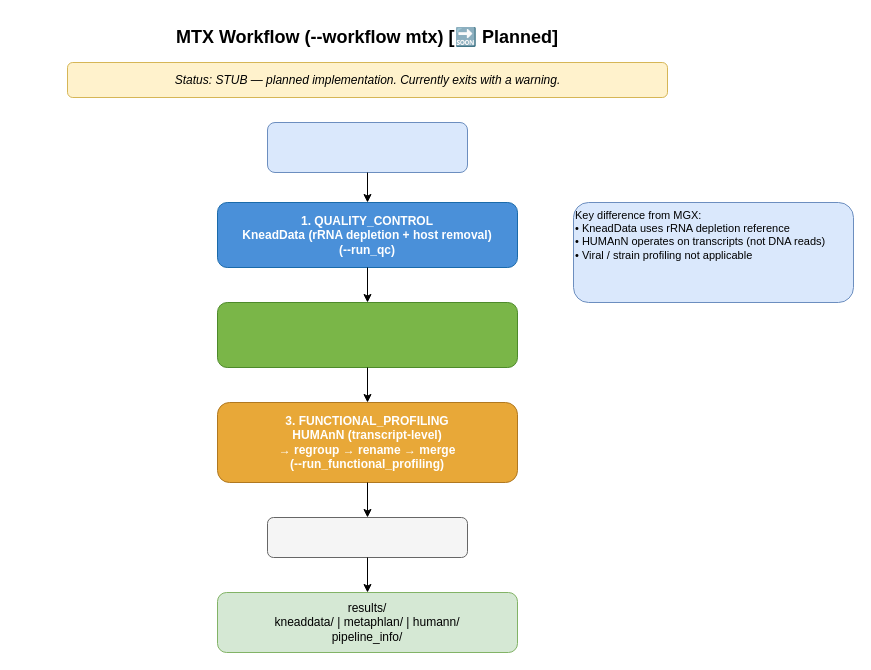
The diagram is 871 pixels wide and 670 high, and some of its shapes have lost their labels. The centre of each missing label's shape, as x and y in pixels:
"2. TAXONOMIC_PROFILING MetaPhlAn (--run_taxonomic_profiling)" belongs at (367,335).
"Raw RNA FASTQ reads (--readsdir)" belongs at (367,147).
"version_log → pipeline_info/" belongs at (367,537).
